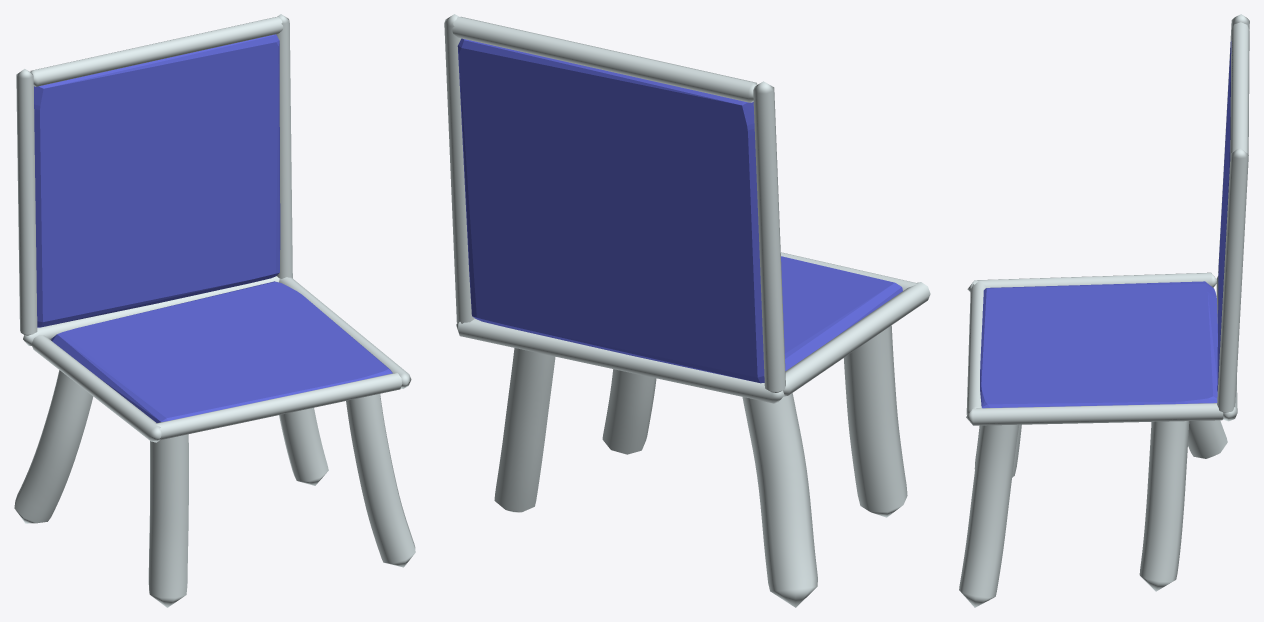
File: chair.glb
The picture shows the model from 3 angles, left to right: view 1: azimuth 30°, elevation 25°; view 2: azimuth 150°, elevation 25°; view 3: azimuth 270°, elevation 25°; orthographic projection. The views are drawn at different scales.
Visible parts, largest first — view 1: brush_MatteHull_g0_b0, brush_Icing_g0_b0; view 2: brush_MatteHull_g0_b0, brush_Icing_g0_b0; view 3: brush_Icing_g0_b0, brush_MatteHull_g0_b0.
Part boxes in pixels (bbox=[...]): brush_MatteHull_g0_b0: bbox=[34, 34, 392, 422]; brush_Icing_g0_b0: bbox=[14, 14, 415, 607]; brush_MatteHull_g0_b0: bbox=[457, 38, 902, 383]; brush_Icing_g0_b0: bbox=[444, 14, 930, 607]; brush_Icing_g0_b0: bbox=[959, 14, 1249, 607]; brush_MatteHull_g0_b0: bbox=[980, 41, 1231, 408].
Size of the model in its own units: 0.7484 by 1.15 by 0.6431.
